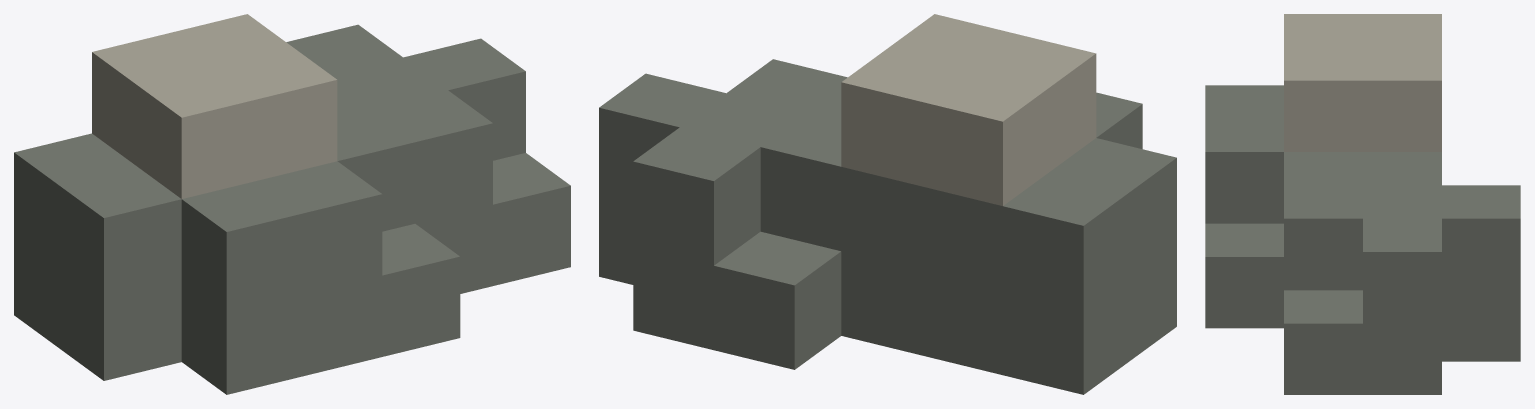
The model's file is layered_rock_v2_species2_far.glb.
3 renders of one model, left to right at view 1: azimuth 30°, elevation 25°; view 2: azimuth 150°, elevation 25°; view 3: azimuth 270°, elevation 25°, orthographic. The views are drawn at different scales.
Parts seen in each view (by area): view 1: layered_rock_v2_species2_far; view 2: layered_rock_v2_species2_far; view 3: layered_rock_v2_species2_far.
Part boxes in pixels (x1,y1,x2,y2): layered_rock_v2_species2_far: [14, 14, 570, 394]; layered_rock_v2_species2_far: [599, 14, 1176, 394]; layered_rock_v2_species2_far: [1205, 14, 1520, 394].
Size of the model in its own units: 3 by 1.5 by 2.
1 material, 1 textured.
